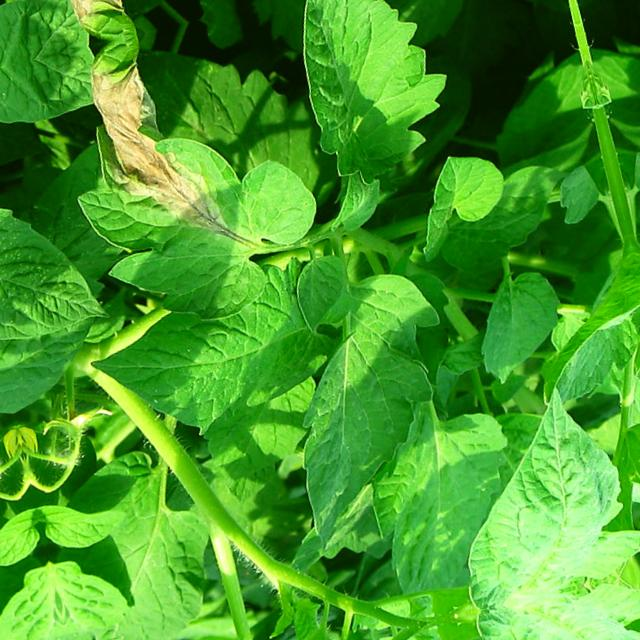Tomato leaf late blight: (232, 231, 490, 570), (59, 55, 318, 314), (350, 352, 549, 628), (279, 0, 477, 222), (0, 92, 109, 359), (0, 44, 110, 131), (616, 282, 640, 476), (70, 636, 148, 640)
